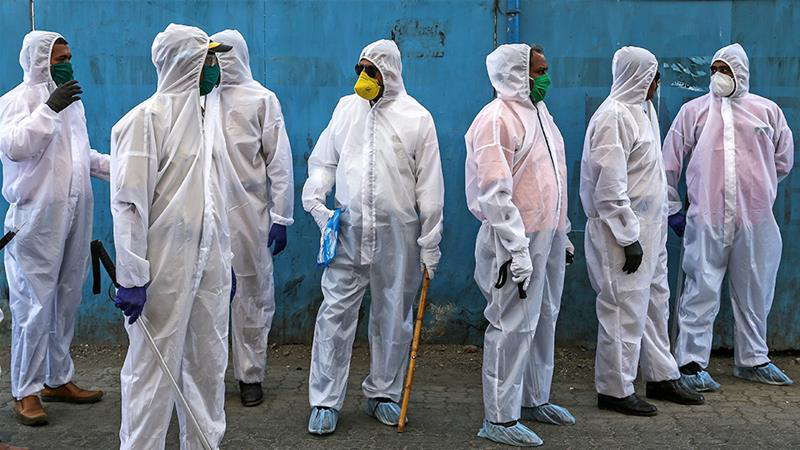Coverall: (303, 37, 445, 402), (109, 24, 230, 450), (470, 42, 573, 420), (676, 49, 796, 366), (580, 46, 686, 385), (1, 32, 100, 391)
Gloves: (112, 278, 152, 323), (505, 248, 534, 293), (415, 242, 445, 281), (617, 237, 647, 274), (265, 223, 289, 256)
with_mask: (350, 57, 388, 103), (47, 52, 77, 92), (525, 63, 552, 103), (196, 51, 218, 95), (709, 66, 737, 98)
